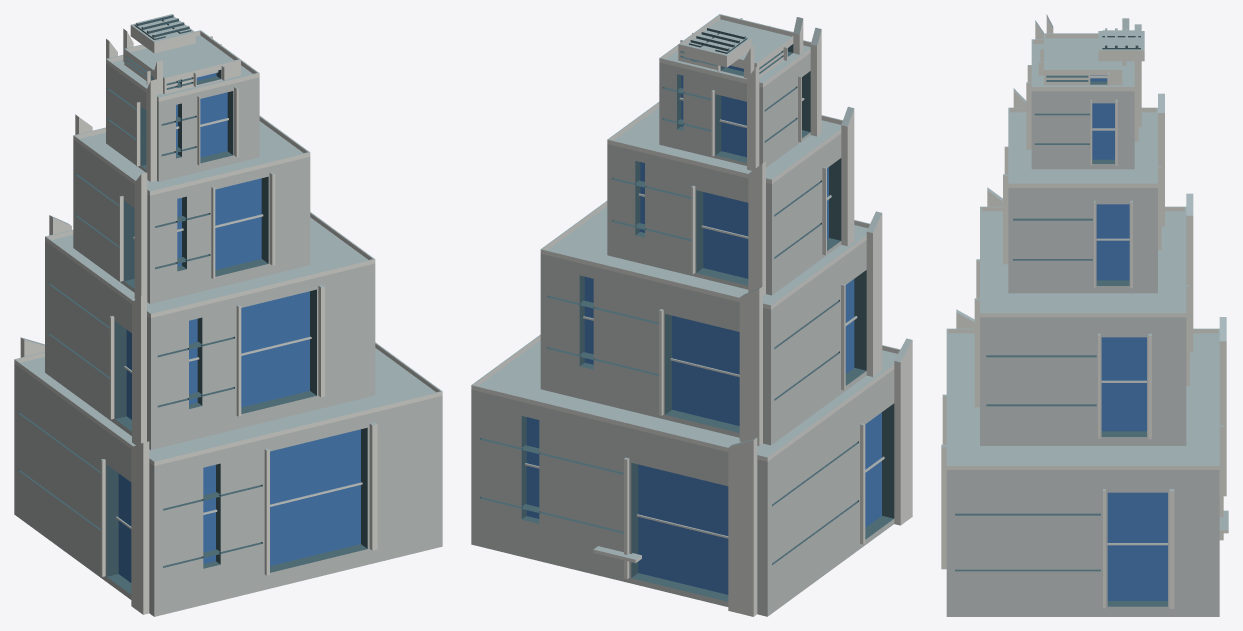
The model's file is 24_Terrassenturm.obj.
3 renders of one model, left to right at view 1: azimuth 30°, elevation 25°; view 2: azimuth 150°, elevation 25°; view 3: azimuth 270°, elevation 25°, orthographic. The views are drawn at different scales.
Size of the model in its own units: 0.6213 by 1 by 0.5301.
